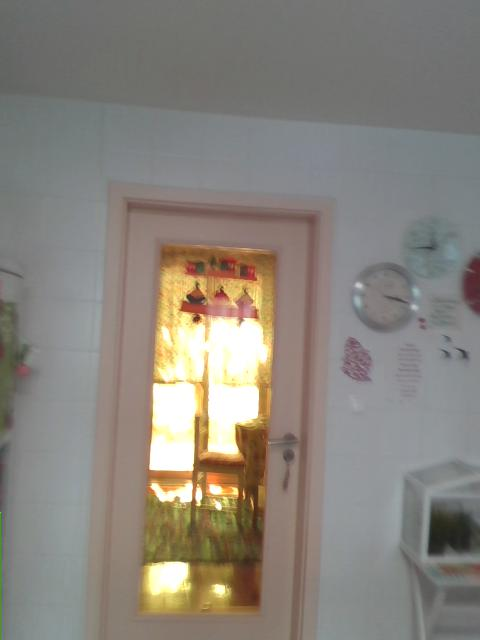closed_door: (84, 180, 334, 639)
